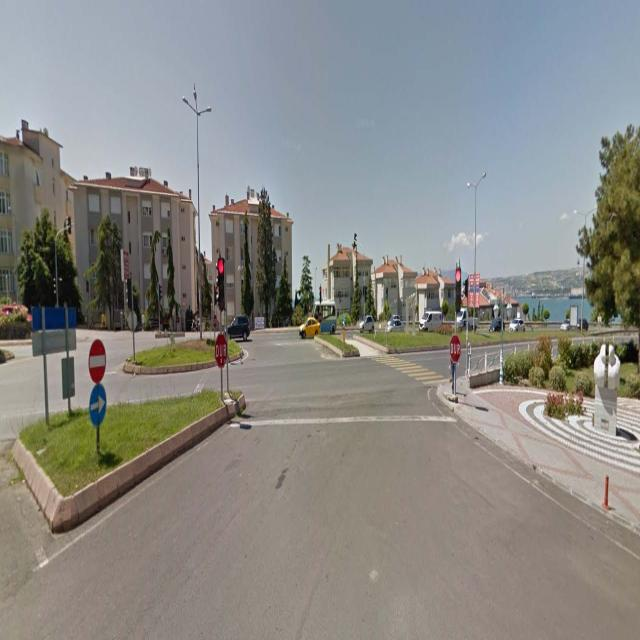dur: (216, 334, 227, 370)
girisyok: (90, 340, 106, 384)
kirmizi: (218, 258, 225, 312), (455, 271, 461, 314)
sag: (90, 384, 106, 428)
